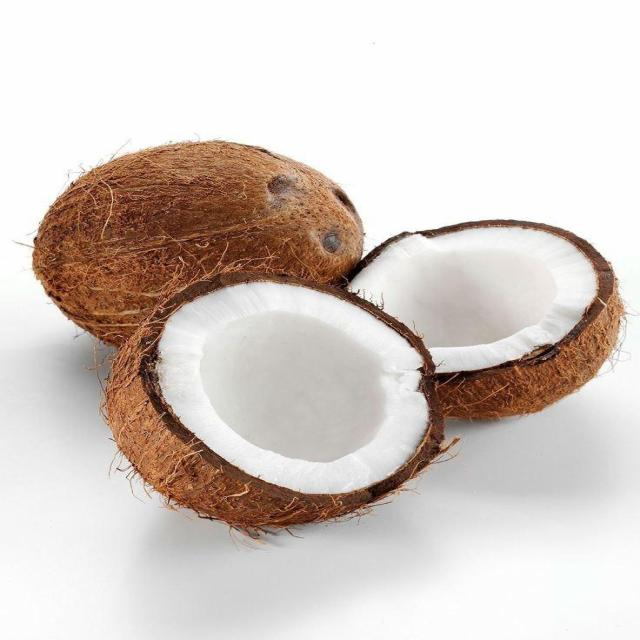coconut: (98, 269, 446, 537), (29, 137, 368, 274), (446, 213, 629, 426), (352, 207, 640, 310)
